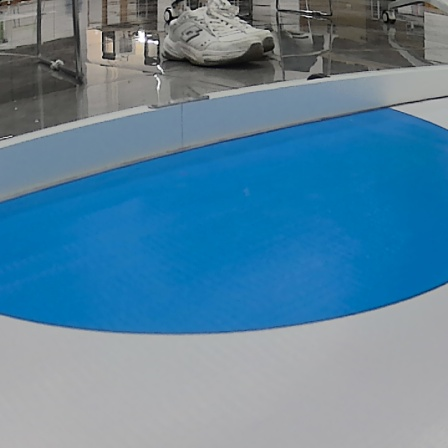blue_base: (0, 104, 448, 337)
